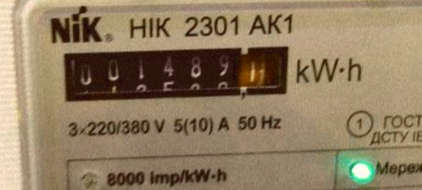0: (104, 55, 121, 81), (77, 61, 93, 86)
1: (133, 53, 148, 83), (245, 54, 258, 84)
4: (160, 53, 177, 79)
8: (186, 51, 204, 79)
9: (215, 52, 231, 78)
screen: (47, 30, 306, 119)
